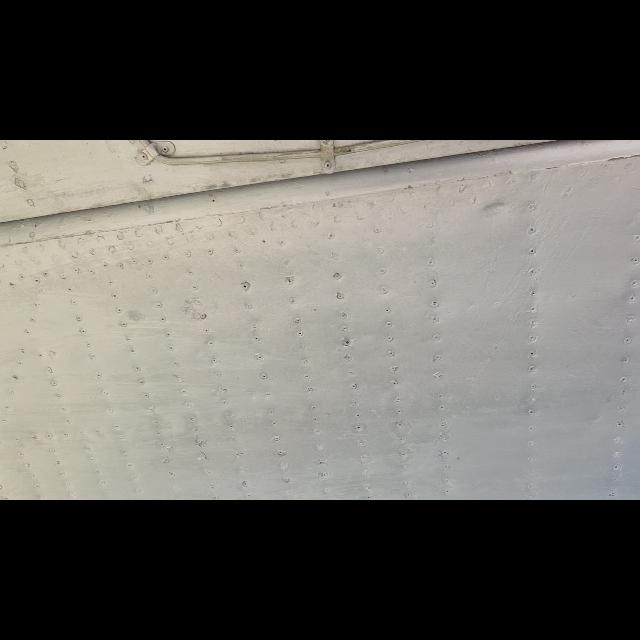dent: (479, 198, 511, 216)
